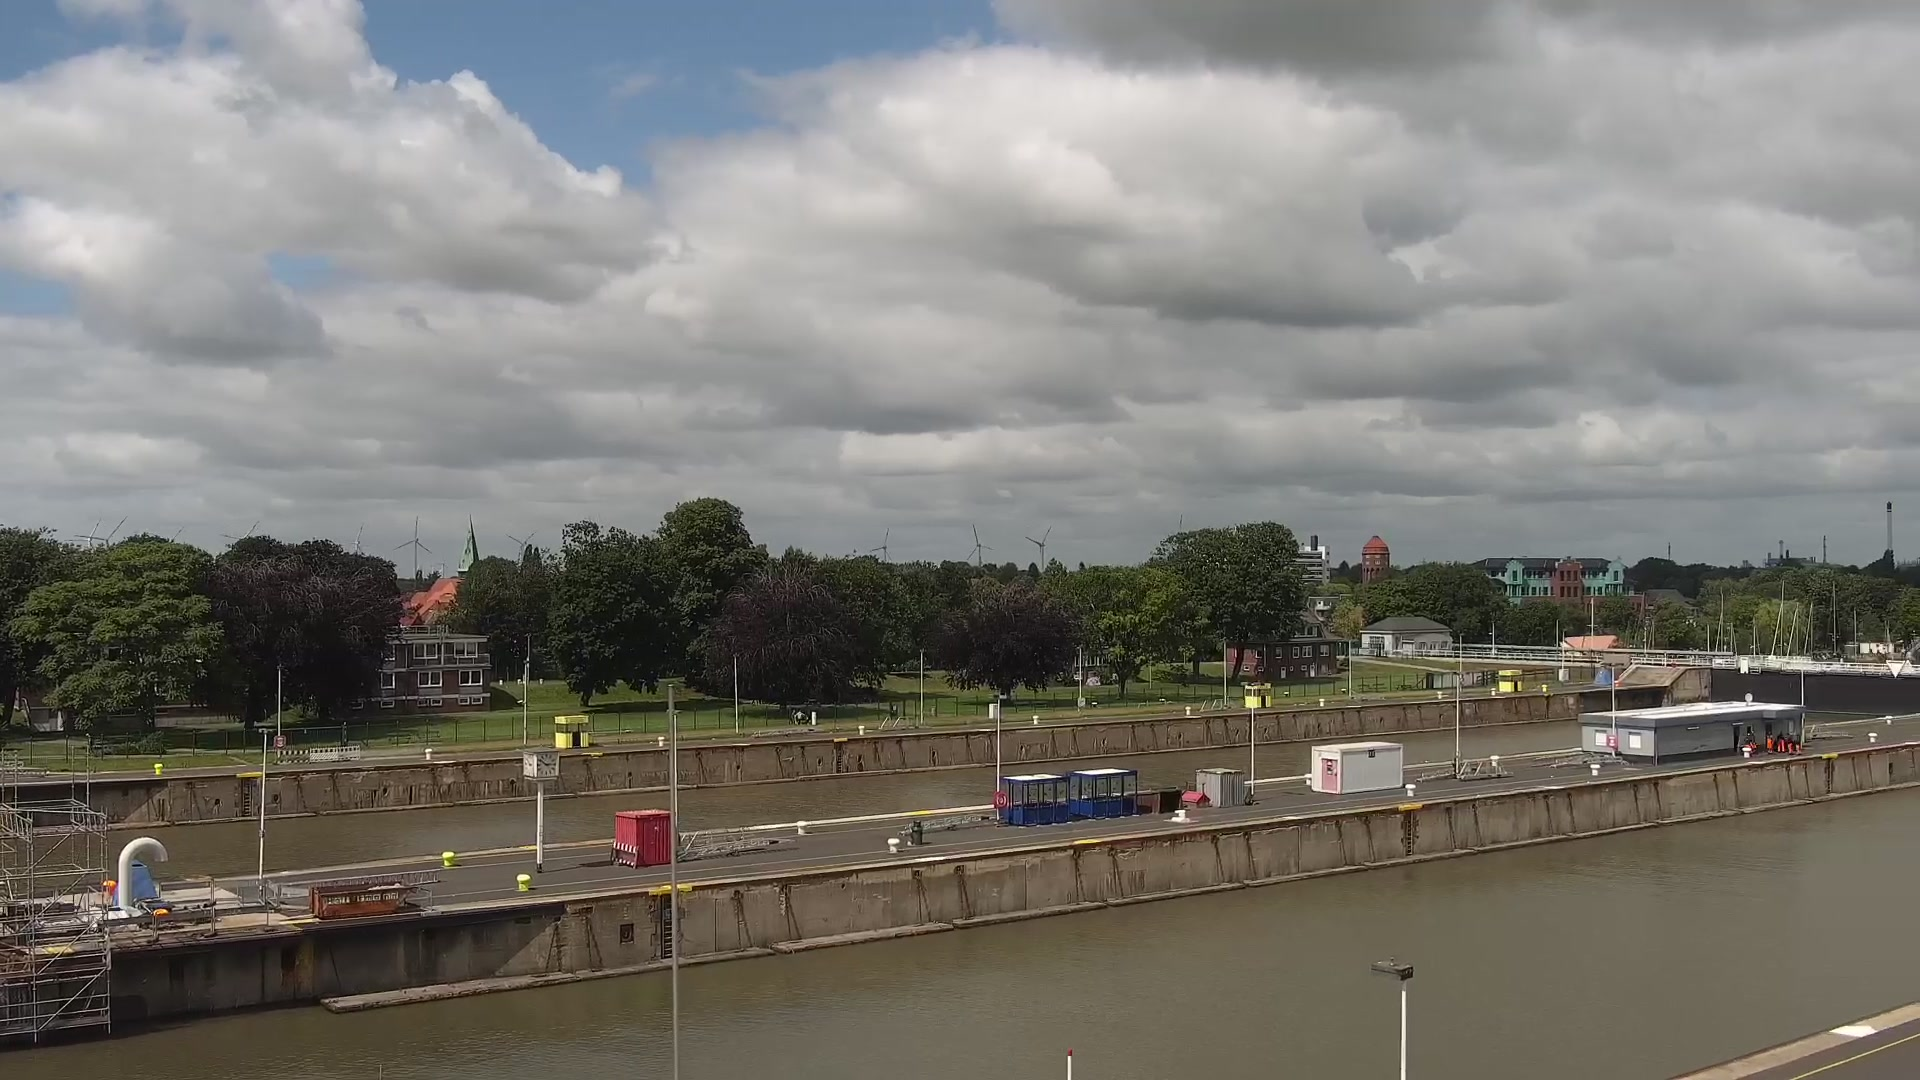human: (1743, 732, 1753, 757), (1765, 730, 1773, 754), (1776, 729, 1786, 753), (1794, 733, 1802, 755), (1786, 734, 1795, 755), (795, 709, 806, 725), (1749, 729, 1755, 752), (790, 709, 797, 725)
